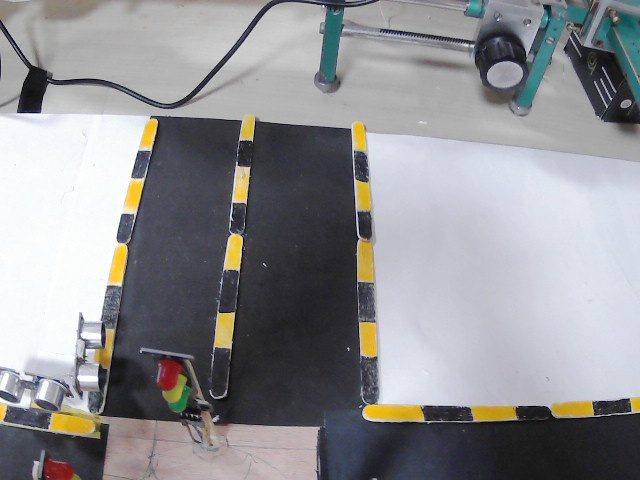black_strip: (9, 401, 47, 428), (211, 351, 232, 396), (219, 271, 239, 317), (421, 407, 474, 423), (359, 285, 380, 324), (114, 208, 137, 242), (517, 403, 554, 424), (104, 287, 125, 324), (354, 213, 377, 243), (228, 207, 251, 235), (353, 153, 373, 183), (597, 401, 631, 418), (235, 146, 252, 176), (135, 150, 147, 180)
mixed_lane: (88, 115, 162, 411), (210, 115, 257, 401), (350, 122, 384, 403), (360, 392, 640, 425), (0, 399, 93, 440)
traffic_light: (149, 352, 200, 426), (32, 450, 84, 480)
uno_breadboard: (71, 312, 110, 390), (0, 366, 64, 403)
yellow_strip: (365, 401, 425, 425), (45, 412, 89, 437), (470, 404, 515, 426), (119, 177, 146, 213), (220, 234, 244, 274), (356, 239, 376, 285), (107, 245, 130, 285), (359, 318, 382, 357), (138, 113, 160, 148), (100, 328, 119, 367), (355, 177, 374, 212), (553, 401, 594, 417), (216, 310, 232, 351), (235, 167, 250, 205), (241, 115, 257, 143), (352, 120, 365, 154), (0, 401, 9, 424), (633, 396, 640, 409)
